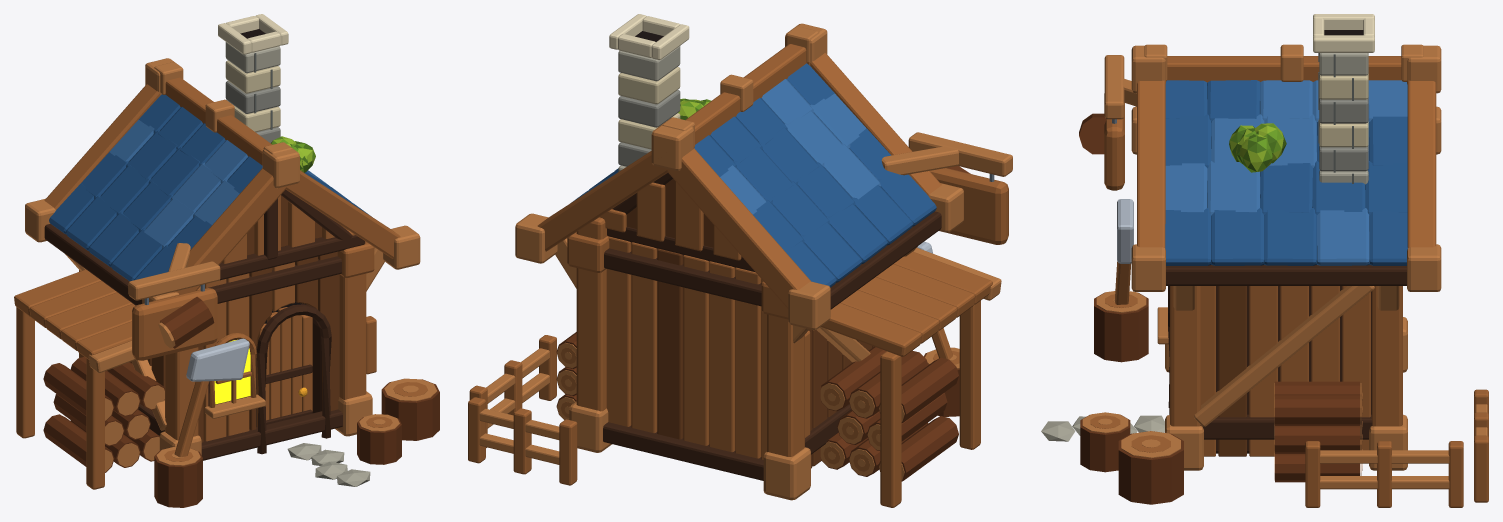
File: woodcutter_hut.glb
The picture shows the model from 3 angles, left to right: view 1: azimuth 30°, elevation 25°; view 2: azimuth 150°, elevation 25°; view 3: azimuth 270°, elevation 25°; orthographic projection. The views are drawn at different scales.
Parts seen in each view (by area): view 1: Carved roof verge, Corner upright.002, Woodcutter hanging log sign, Carved roof verge.002, Heavy doorway frame, Carved roof verge.001, Wall cross beam, Wall cross beam.002, Ridge timber, Lean-to upright.001, Lean-to upright, Gable tie beam (+77 smaller); view 2: Carved roof verge.001, Corner upright.001, Corner upright.003, Wall timber board.009, Wall timber board.011, Wall timber board.005, Wall timber board.007, Wall timber board.003, Wall timber board.013, Carved roof verge.003, Woodcutter hanging log sign, Wall cross beam.001 (+73 smaller); view 3: Carved roof verge.003, Roof eave.001, Carved roof verge.002, Side wall diagonal.001, Ridge timber, Corner upright.003, Corner upright.002, Side timber board.003, Side timber board.005, Log bark.016, Overlapping roof tile.036, Overlapping roof tile.038 (+61 smaller).
Part boxes in pixels (x1=…): Carved roof verge: x1=171, y1=168, x2=286, y2=294; Corner upright.002: x1=339, y1=230, x2=366, y2=399; Woodcutter hanging log sign: x1=132, y1=288, x2=217, y2=360; Carved roof verge.002: x1=285, y1=170, x2=400, y2=258; Heavy doorway frame: x1=256, y1=304, x2=331, y2=454; Carved roof verge.001: x1=44, y1=84, x2=160, y2=209; Wall cross beam: x1=201, y1=409, x2=342, y2=460; Wall cross beam.002: x1=205, y1=256, x2=341, y2=303; Ridge timber: x1=165, y1=77, x2=271, y2=165; Lean-to upright.001: x1=16, y1=307, x2=34, y2=438; Lean-to upright: x1=86, y1=358, x2=104, y2=489; Gable tie beam: x1=219, y1=235, x2=364, y2=280; Carved roof verge.001: x1=666, y1=148, x2=810, y2=308; Corner upright.001: x1=767, y1=314, x2=804, y2=456; Corner upright.003: x1=576, y1=217, x2=607, y2=411; Wall timber board.009: x1=657, y1=248, x2=683, y2=439; Wall timber board.011: x1=631, y1=242, x2=657, y2=433; Wall timber board.005: x1=709, y1=261, x2=735, y2=452; Wall timber board.007: x1=683, y1=255, x2=709, y2=445; Wall timber board.003: x1=735, y1=267, x2=761, y2=458; Wall timber board.013: x1=606, y1=236, x2=631, y2=426; Carved roof verge.003: x1=537, y1=151, x2=667, y2=251; Woodcutter hanging log sign: x1=930, y1=168, x2=1008, y2=244; Wall cross beam.001: x1=603, y1=422, x2=763, y2=480; Carved roof verge.003: x1=1407, y1=80, x2=1436, y2=247; Roof eave.001: x1=1166, y1=265, x2=1406, y2=285; Carved roof verge.002: x1=1137, y1=80, x2=1165, y2=247; Side wall diagonal.001: x1=1193, y1=286, x2=1374, y2=426; Ridge timber: x1=1167, y1=56, x2=1401, y2=82; Corner upright.003: x1=1372, y1=286, x2=1402, y2=426; Corner upright.002: x1=1170, y1=286, x2=1200, y2=426; Side timber board.003: x1=1218, y1=286, x2=1246, y2=456; Side timber board.005: x1=1249, y1=286, x2=1277, y2=456; Log bark.016: x1=1118, y1=431, x2=1183, y2=504; Overlapping roof tile.036: x1=1211, y1=208, x2=1264, y2=265; Overlapping roof tile.038: x1=1317, y1=208, x2=1369, y2=265.
Size of the model in its own units: 4.03 by 4.08 by 3.91.
